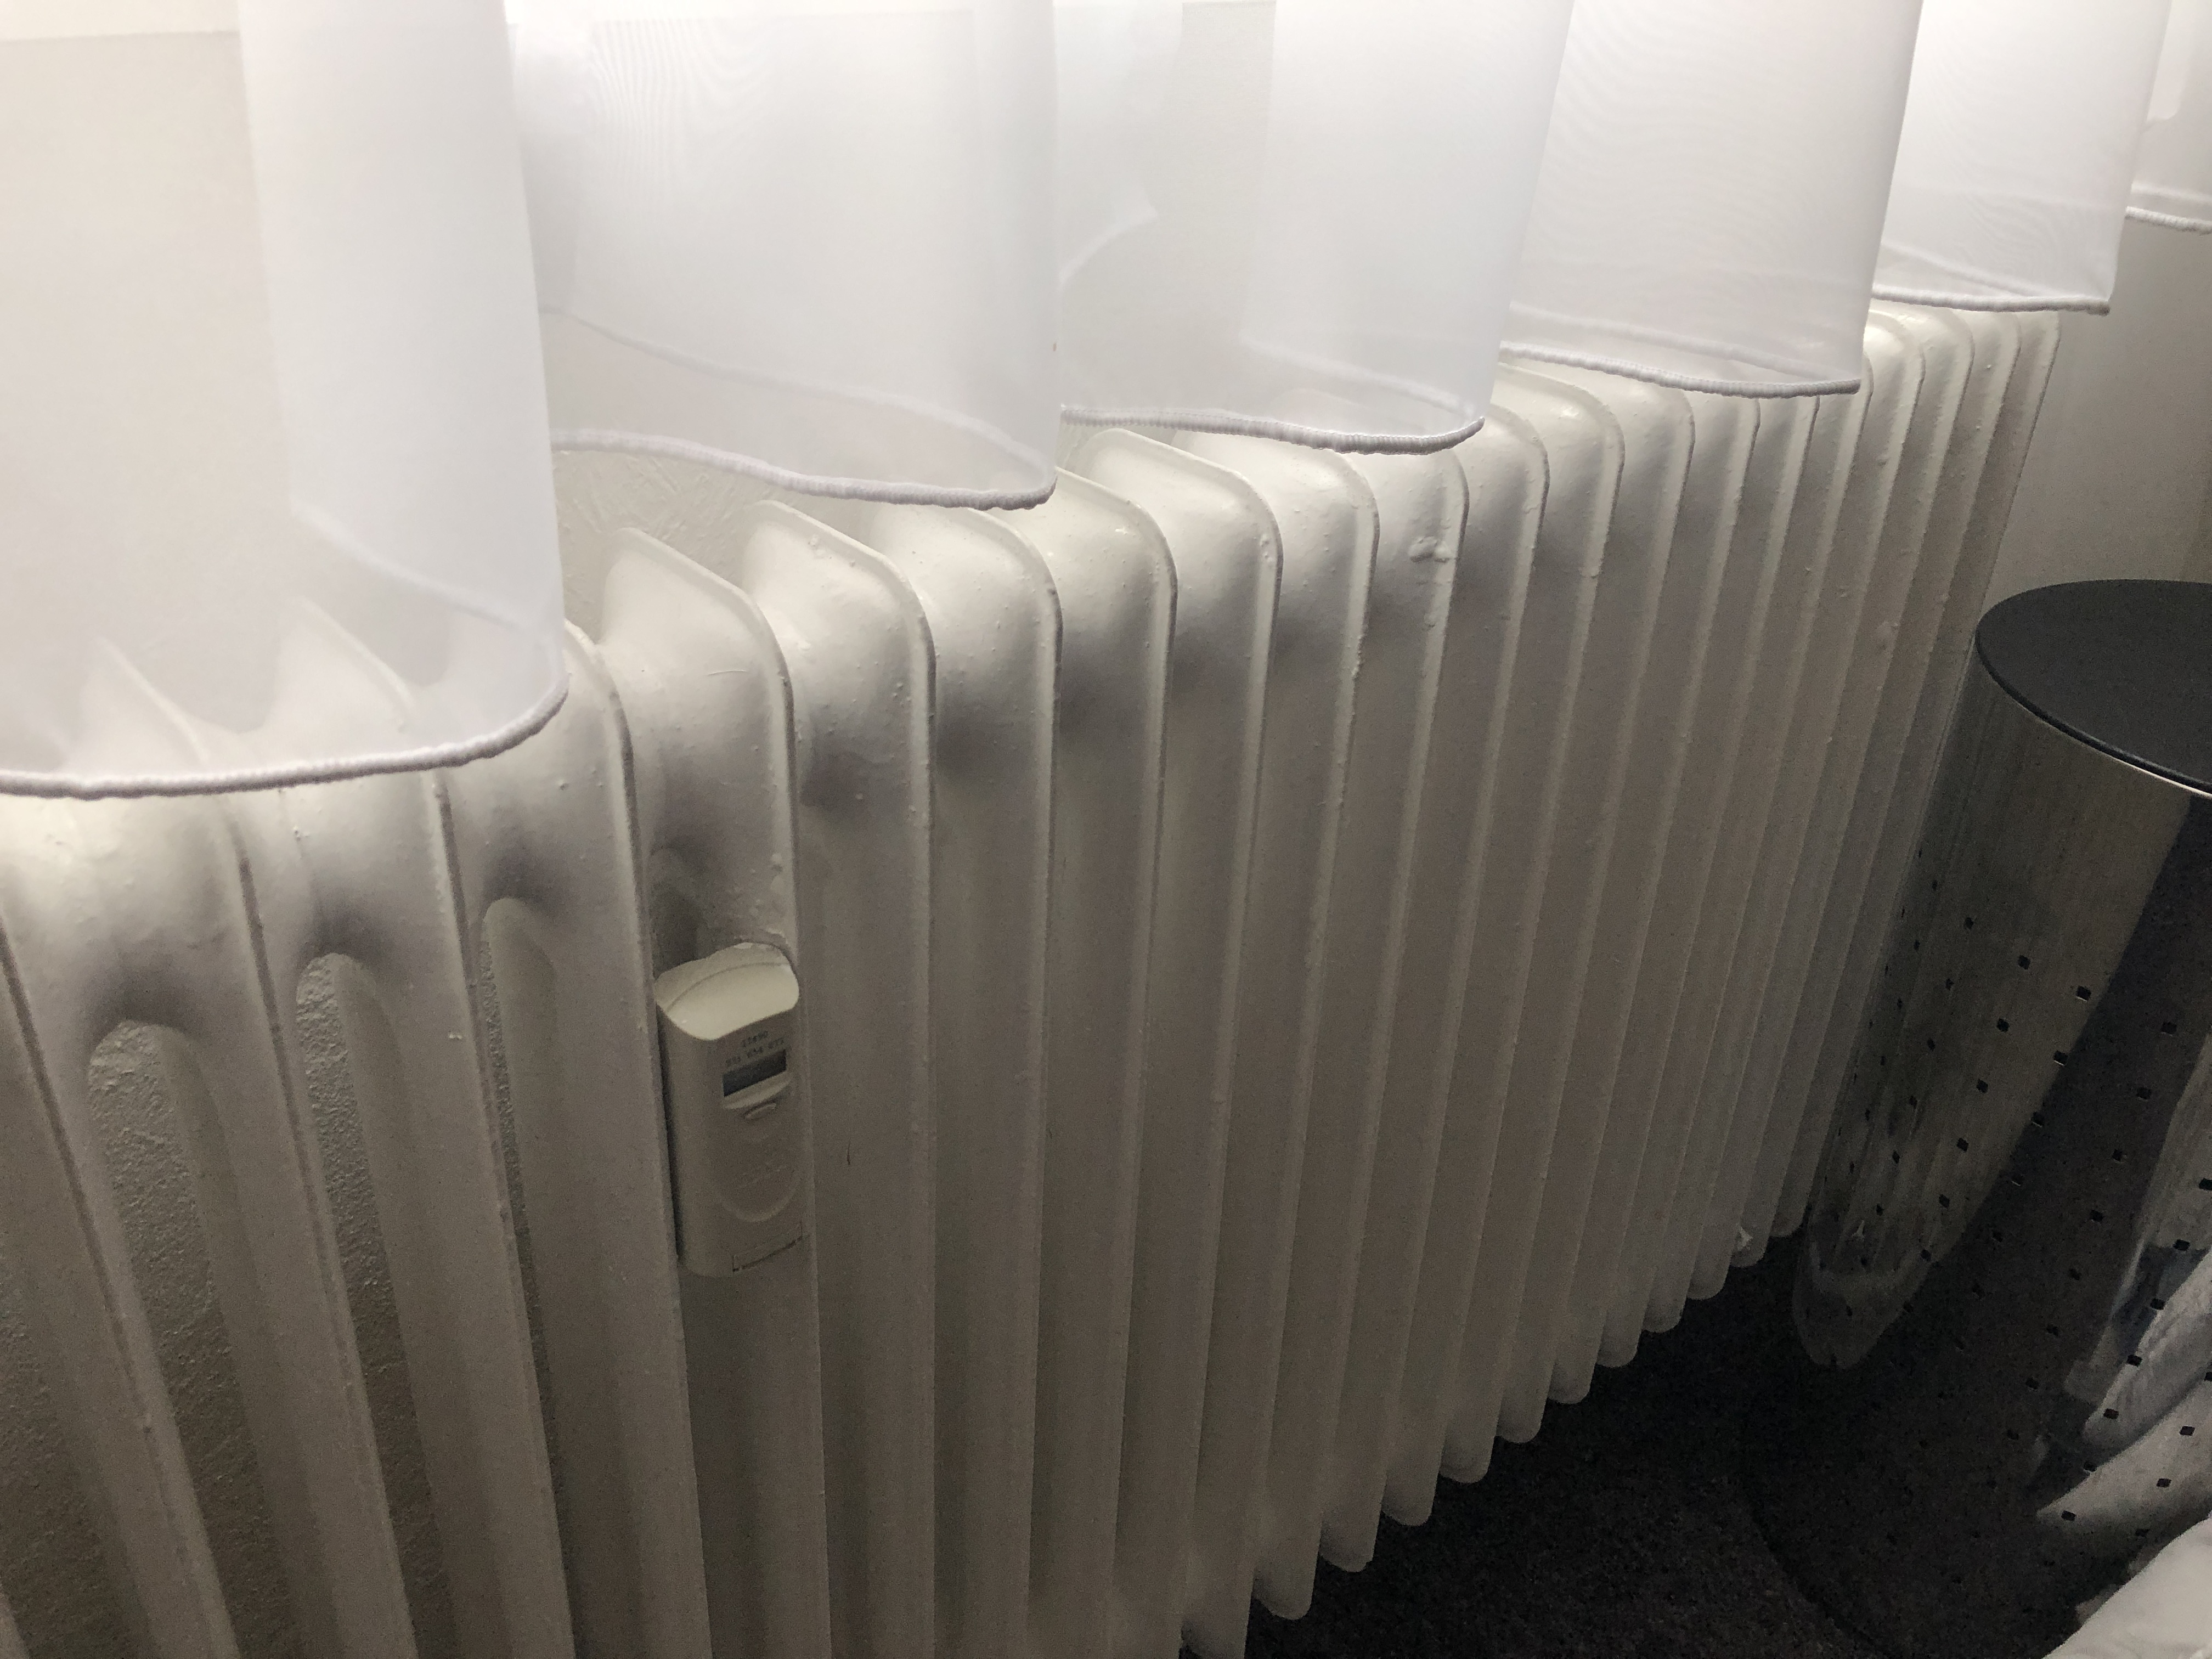Radiator: (0, 237, 2104, 1656)
